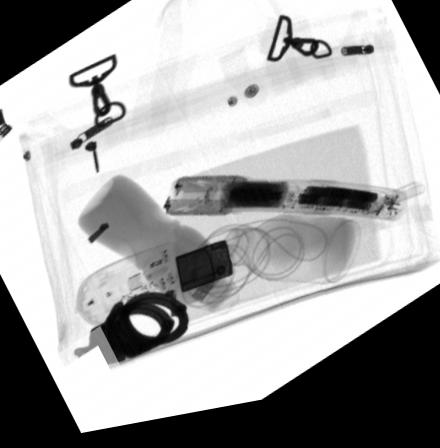Baton: (165, 182, 406, 234)
HandCuffs: (72, 292, 190, 370)
Lighter: (174, 246, 232, 299)
